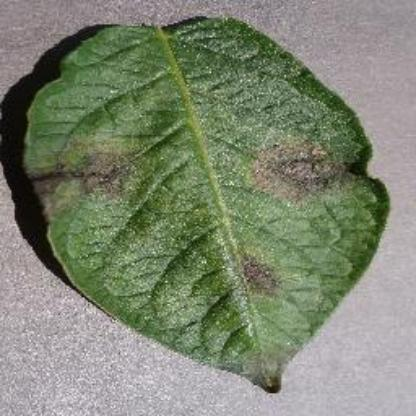Late-Blight: (23, 13, 390, 393)
